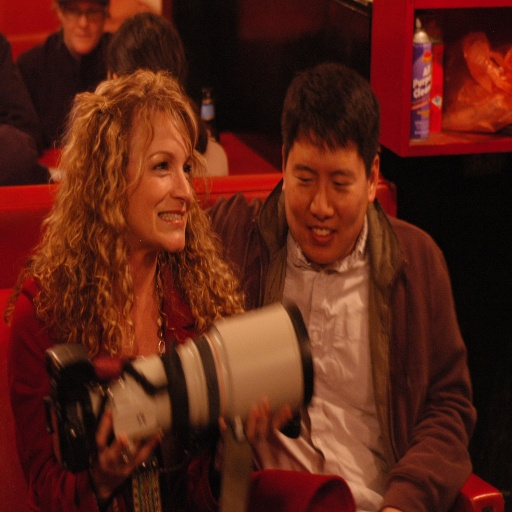hand: (82, 353, 171, 487), (217, 395, 291, 446), (383, 506, 400, 511)
